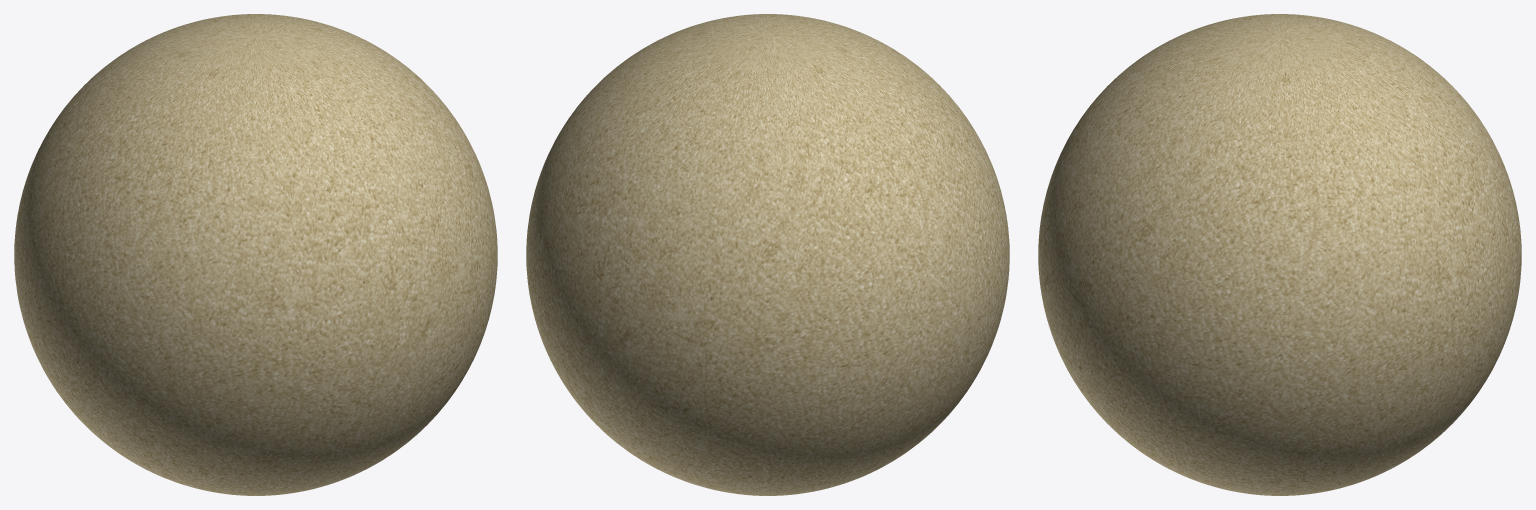
Rendered from Carpet008.glb.
3 renders of one model, left to right at view 1: azimuth 30°, elevation 25°; view 2: azimuth 150°, elevation 25°; view 3: azimuth 270°, elevation 25°, orthographic.
Visible parts, largest first — view 1: world; view 2: world; view 3: world.
Boxes of the visible parts, bbox=[...] form: world: bbox=[14, 14, 497, 495]; world: bbox=[526, 14, 1009, 495]; world: bbox=[1038, 14, 1521, 495].
Bounding box in the file's own units: 0.6366 × 0.6366 × 0.6366.
1 material, 1 textured.
